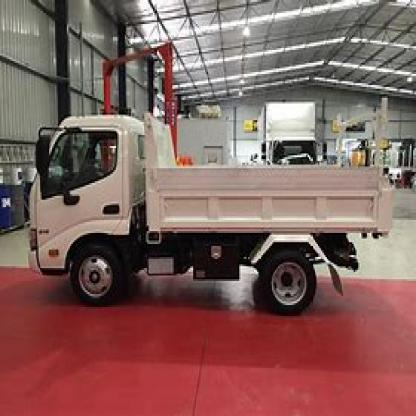dump_truck: (27, 96, 395, 320)
